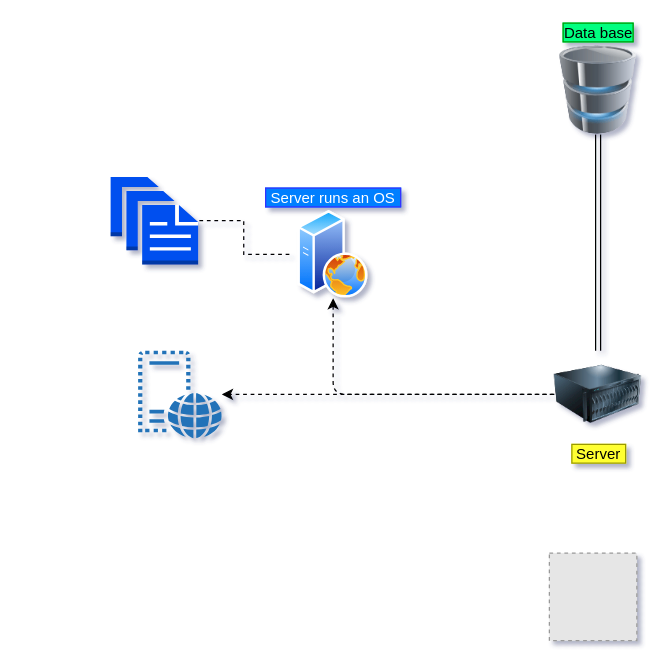
The diagram is 671 pixels wide and 670 high, and some of its shapes have lost their labels. Grey dashed boxes stand in for pictures. Each missing label, with the centre of its shape:
"The server can be a Physical or virtual" belongs at (179,394).
"web server’s role is to serve web pages" belongs at (153,220).
